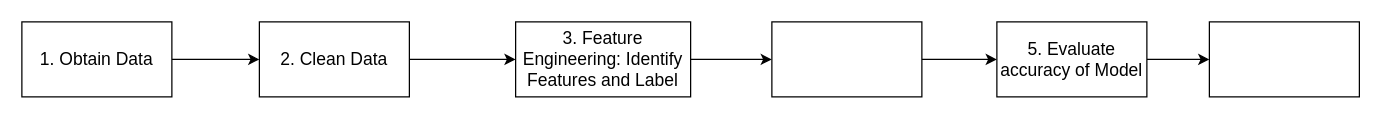
Image size: 1381x119. Some labels were removed from this diagram. The shapes that lost their labels are listed below. From the top down, each one's centre as x and y in pixels, then its label:
the point at 846,59: 4. Create a Model
the point at 1283,59: 6. Deploy the model for use
